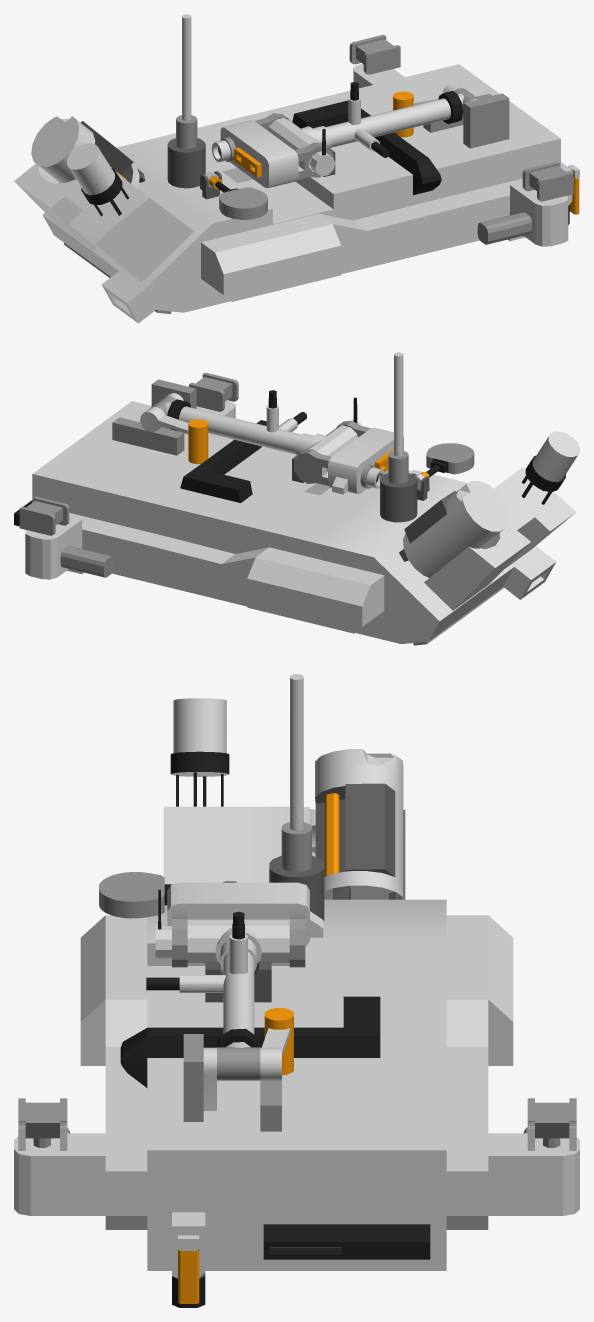
The model's file is cuerpo.fbx.
3 renders of one model, top to bottom at view 1: azimuth 30°, elevation 25°; view 2: azimuth 150°, elevation 25°; view 3: azimuth 270°, elevation 25°, orthographic. The views are drawn at different scales.
Parts seen in each view (by area): view 1: C; view 2: C; view 3: C.
Part boxes in pixels (x1=…): C: x1=14, y1=14, x2=579, y2=323; C: x1=14, y1=352, x2=579, y2=645; C: x1=14, y1=674, x2=579, y2=1307.
Size of the model in its own units: 1027 by 510 by 680.
